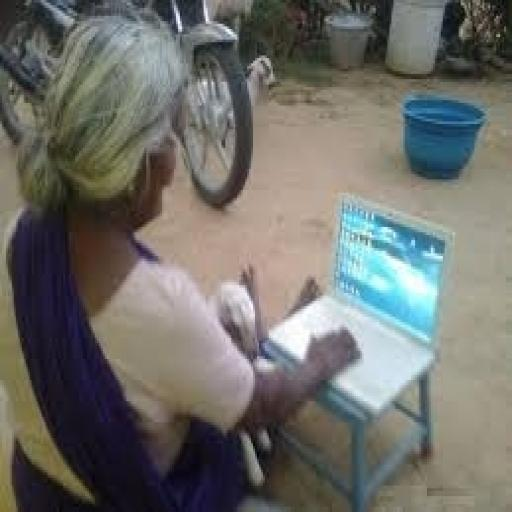using_laptop: (259, 187, 457, 417)
